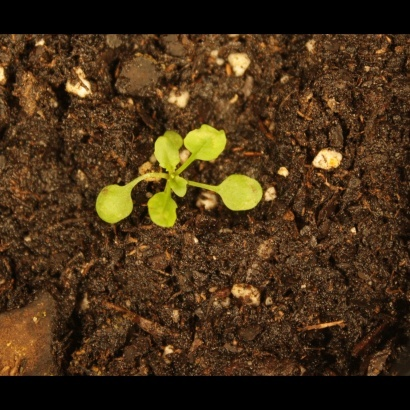leaf: (87, 176, 138, 227), (217, 168, 268, 215), (184, 119, 233, 161), (147, 187, 185, 235), (153, 136, 187, 175), (162, 127, 185, 150), (169, 176, 192, 199)
